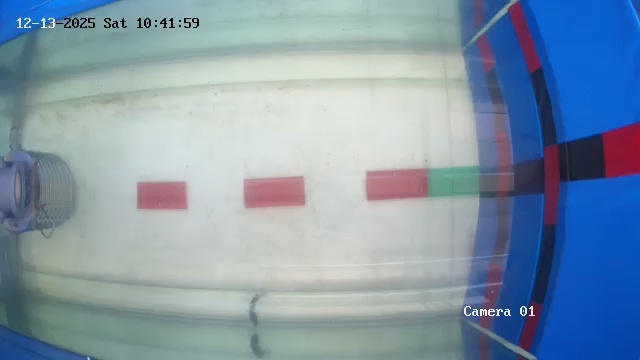fish: (240, 291, 269, 325)
